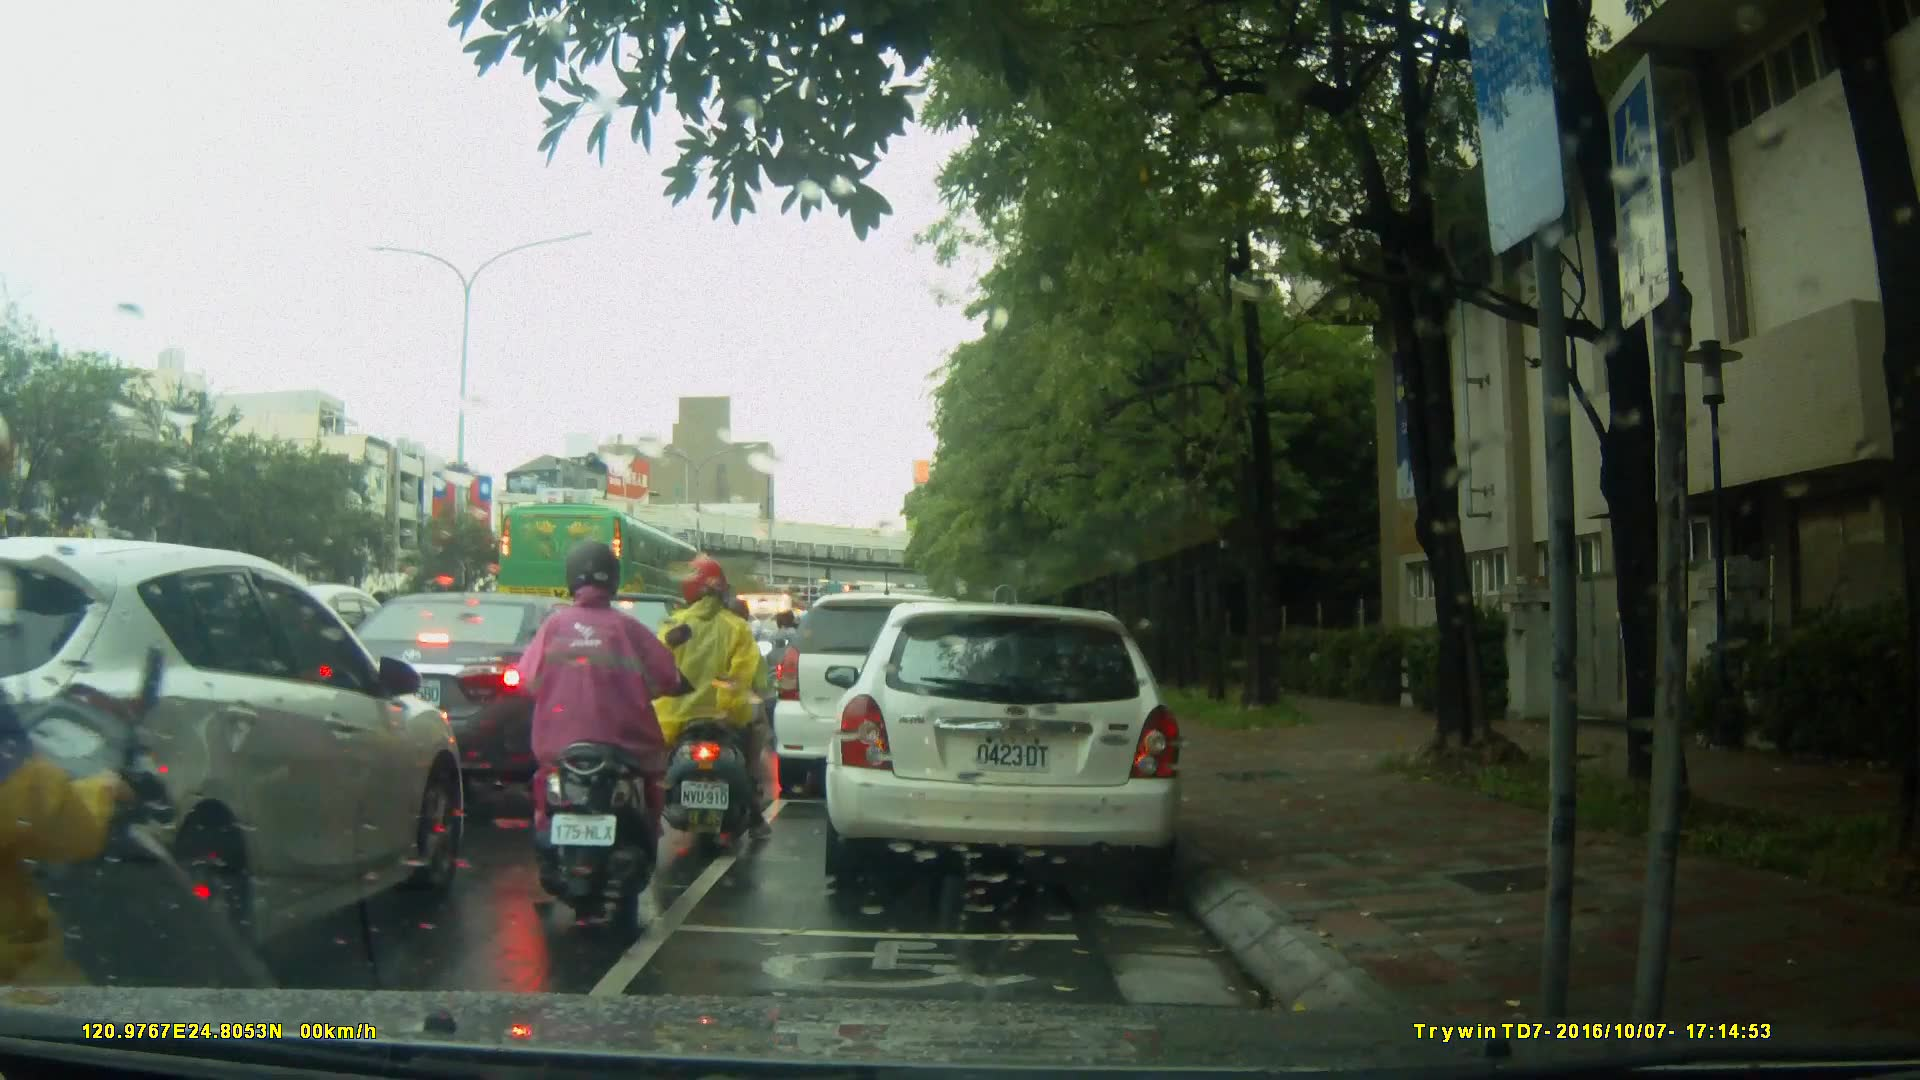rider: (533, 549, 674, 930), (659, 553, 775, 840), (718, 592, 792, 760), (765, 603, 810, 729)
vehicle: (5, 537, 469, 988), (831, 592, 1196, 897), (317, 589, 629, 776), (770, 590, 999, 804), (496, 501, 711, 636)
